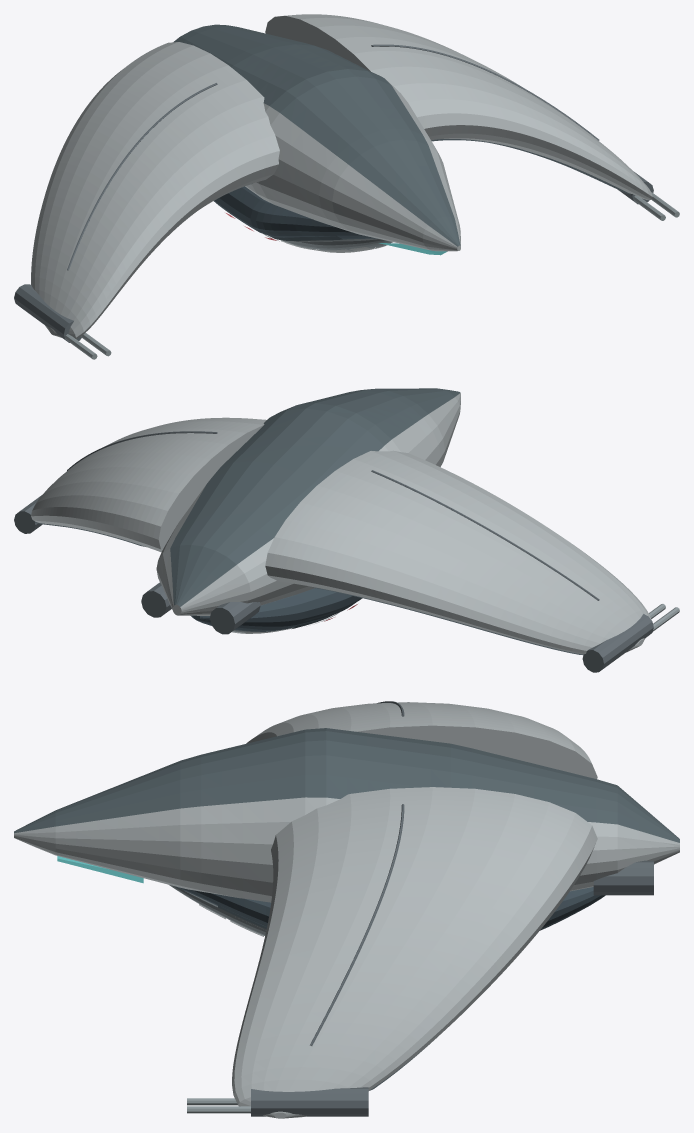
File: ambwe_silver_off.glb
The picture shows the model from 3 angles, top to bottom: view 1: azimuth 30°, elevation 25°; view 2: azimuth 150°, elevation 25°; view 3: azimuth 270°, elevation 25°; orthographic projection. The views are drawn at different scales.
Visible parts, largest first — view 1: material_0, material_1, material_2, material_9, material_11, material_3, material_5; view 2: material_0, material_1, material_9, material_2, material_10; view 3: material_0, material_1, material_9, material_2, material_11, material_3.
Part boxes in pixels (x1,y1,x2,y2): material_0: (31,14,652,339); material_1: (173,24,460,246); material_2: (214,186,377,239); material_9: (14,44,653,342); material_11: (65,192,679,359); material_3: (283,238,392,251); material_5: (214,200,342,240); material_0: (31,393,651,654); material_1: (170,388,460,606); material_9: (14,431,653,672); material_2: (190,588,361,631); material_10: (35,522,583,654); material_0: (14,702,679,1118); material_1: (14,728,679,842); material_9: (251,701,653,1116); material_2: (174,886,605,930); material_11: (187,1098,250,1113); material_3: (169,885,266,935).
Size of the model in its own units: 4.65 by 1.35 by 3.85.
